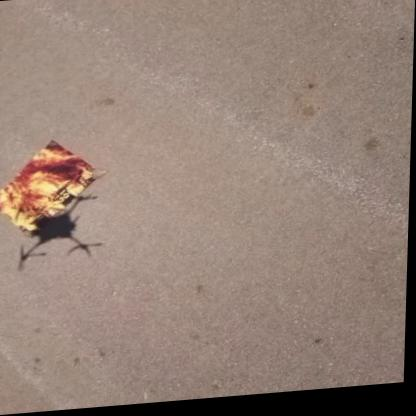fire-poster: (0, 136, 109, 236)
